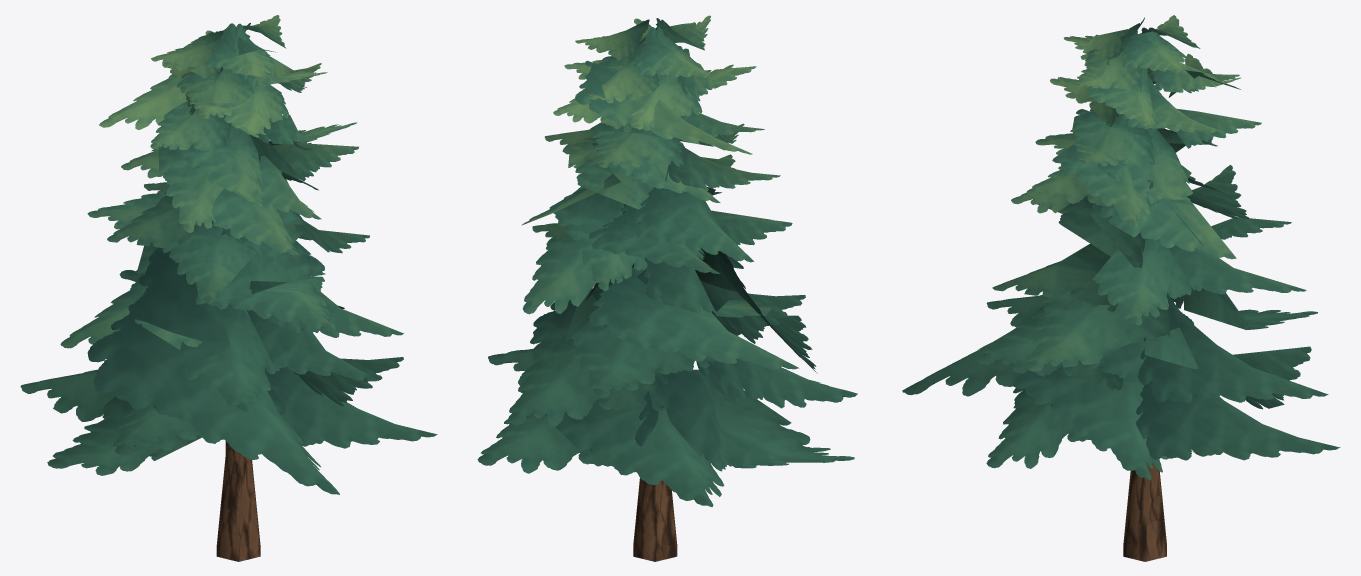
The model's file is tree_pine_a_far.glb.
The picture shows the model from 3 angles, left to right: view 1: azimuth 30°, elevation 25°; view 2: azimuth 150°, elevation 25°; view 3: azimuth 270°, elevation 25°; orthographic projection.
Visible parts, largest first — view 1: Canopy, tree_pine_a_far; view 2: Canopy, tree_pine_a_far; view 3: Canopy, tree_pine_a_far.
Boxes of the visible parts, x1=… form: Canopy: x1=20, y1=15, x2=437, y2=494; tree_pine_a_far: x1=216, y1=441, x2=260, y2=561; Canopy: x1=477, y1=15, x2=857, y2=506; tree_pine_a_far: x1=633, y1=478, x2=677, y2=561; Canopy: x1=902, y1=15, x2=1340, y2=479; tree_pine_a_far: x1=1123, y1=461, x2=1166, y2=561.
Bounding box in the file's own units: 1.86 × 2.55 × 1.96.
2 materials, 2 textured.
